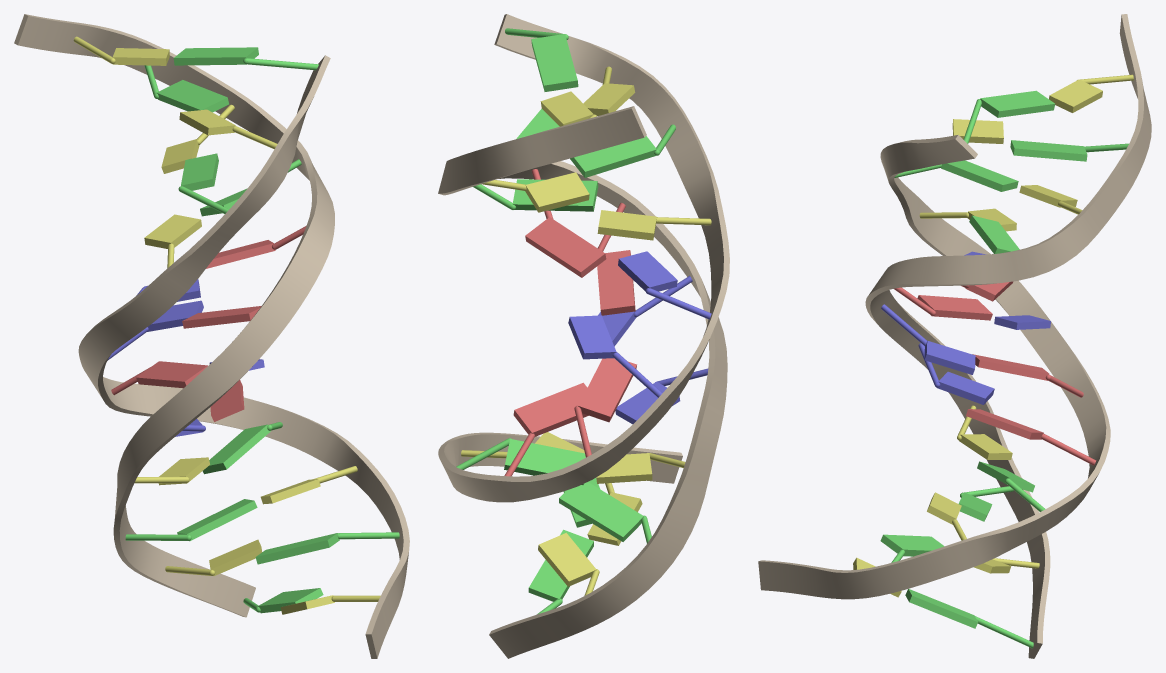
File: PRP_DNASpire.glb
3 renders of one model, left to right at view 1: azimuth 30°, elevation 25°; view 2: azimuth 150°, elevation 25°; view 3: azimuth 270°, elevation 25°, orthographic. The views are drawn at different scales.
Parts seen in each view (by area): view 1: Object_5; view 2: Object_5; view 3: Object_5.
Part boxes in pixels (left/top/right/bottom): Object_5: left=14, top=14, right=409, bottom=658; Object_5: left=438, top=14, right=729, bottom=658; Object_5: left=758, top=14, right=1151, bottom=658.
Bounding box in the file's own units: 1.96 × 4.26 × 2.67.
